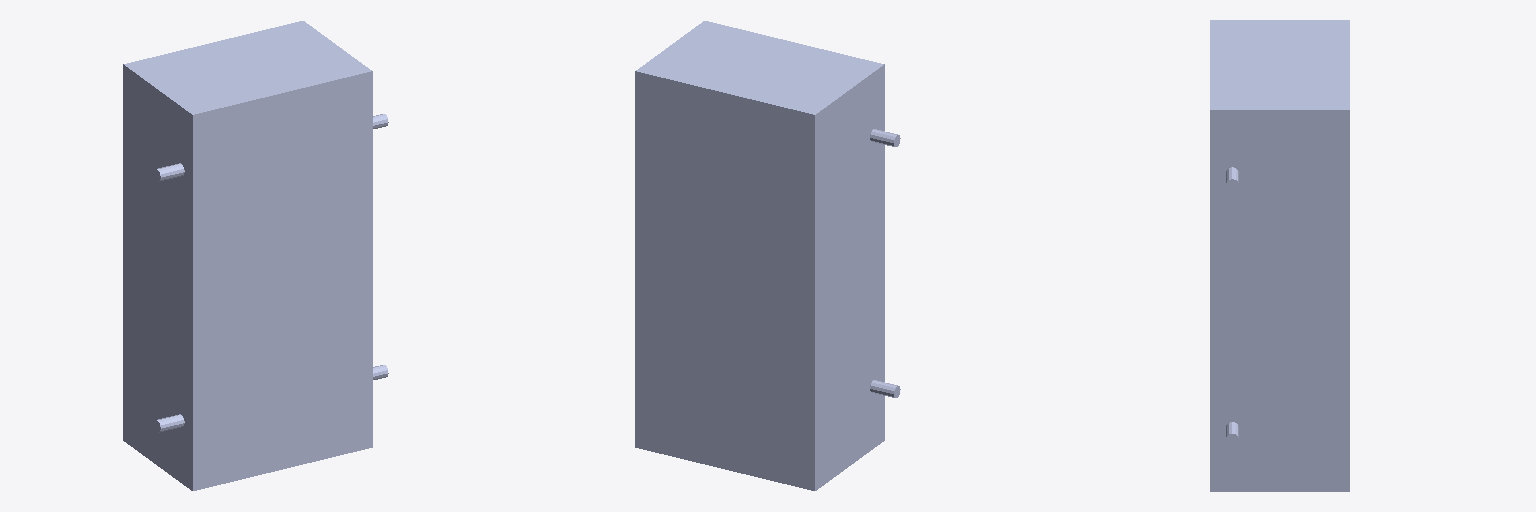
URDF robot description (4_WHEELER):
<?xml version="1.0" encoding="utf-8"?>
<!-- This URDF was automatically created by SolidWorks to URDF Exporter! Originally created by [author] ([email redacted]) 
     Commit Version: 1.6.0-1-g15f4949  Build Version: 1.6.7594.29634
     For more information, please see http://wiki.ros.org/sw_urdf_exporter -->
<robot
  name="4_WHEELER">
  <link
    name="base_link">
    <inertial>
      <origin
        xyz="-0.0375 0.0168979568692043 -0.05"
        rpy="0 0 0" />
      <mass
        value="0.563205630345987" />
      <inertia
        ixx="0.00117384279611469"
        ixy="1.53653099876935E-20"
        ixz="-9.99854565423472E-20"
        iyy="0.00132140486649909"
        iyz="-3.76039599495508E-20"
        izz="0.000382342529746245" />
    </inertial>
    <visual>
      <origin
        xyz="0 0 0"
        rpy="0 0 0" />
      <geometry>
        <mesh
          filename="package://4_WHEELER/meshes/base_link.STL" />
      </geometry>
      <material
        name="">
        <color
          rgba="0.792156862745098 0.819607843137255 0.933333333333333 1" />
      </material>
    </visual>
    <collision>
      <origin
        xyz="0 0 0"
        rpy="0 0 0" />
      <geometry>
        <mesh
          filename="package://4_WHEELER/meshes/base_link.STL" />
      </geometry>
    </collision>
  </link>
  <link
    name="front_right_link">
    <inertial>
      <origin
        xyz="0.0150232018561485 0 0"
        rpy="0 0 0" />
      <mass
        value="0.084626652106075" />
      <inertia
        ixx="3.81697371488008E-05"
        ixy="1.15941736867104E-37"
        ixz="-1.38810202635159E-24"
        iyy="2.54252769409231E-05"
        iyz="1.06543524839393E-40"
        izz="2.54252769409231E-05" />
    </inertial>
    <visual>
      <origin
        xyz="0 0 0"
        rpy="0 0 0" />
      <geometry>
        <mesh
          filename="package://4_WHEELER/meshes/front_right_link.STL" />
      </geometry>
      <material
        name="">
        <color
          rgba="0.792156862745098 0.819607843137255 0.933333333333333 1" />
      </material>
    </visual>
    <collision>
      <origin
        xyz="0 0 0"
        rpy="0 0 0" />
      <geometry>
        <mesh
          filename="package://4_WHEELER/meshes/front_right_link.STL" />
      </geometry>
    </collision>
  </link>
  <joint
    name="front_right_joint"
    type="continuous">
    <origin
      xyz="0 0 -0.1"
      rpy="0 0 0" />
    <parent
      link="base_link" />
    <child
      link="front_right_link" />
    <axis
      xyz="1 0 0" />
    <safety_controller
      k_velocity="0" />
  </joint>
  <link
    name="back_right_link">
    <inertial>
      <origin
        xyz="0.0150232018561485 1.73472347597681E-18 6.93889390390723E-18"
        rpy="0 0 0" />
      <mass
        value="0.084626652106075" />
      <inertia
        ixx="3.81697371488008E-05"
        ixy="-7.40219872782327E-38"
        ixz="7.0944970673424E-24"
        iyy="2.54252769409231E-05"
        iyz="2.64481672201997E-40"
        izz="2.54252769409231E-05" />
    </inertial>
    <visual>
      <origin
        xyz="0 0 0"
        rpy="0 0 0" />
      <geometry>
        <mesh
          filename="package://4_WHEELER/meshes/back_right_link.STL" />
      </geometry>
      <material
        name="">
        <color
          rgba="0.792156862745098 0.819607843137255 0.933333333333333 1" />
      </material>
    </visual>
    <collision>
      <origin
        xyz="0 0 0"
        rpy="0 0 0" />
      <geometry>
        <mesh
          filename="package://4_WHEELER/meshes/back_right_link.STL" />
      </geometry>
    </collision>
  </link>
  <joint
    name="back_right_joint"
    type="continuous">
    <origin
      xyz="0 0 0"
      rpy="0 0 0" />
    <parent
      link="base_link" />
    <child
      link="back_right_link" />
    <axis
      xyz="1 0 0" />
    <safety_controller
      k_velocity="0" />
  </joint>
  <link
    name="front_left_link">
    <inertial>
      <origin
        xyz="0.0150232018561485 0 0"
        rpy="0 0 0" />
      <mass
        value="0.084626652106075" />
      <inertia
        ixx="3.81697371488008E-05"
        ixy="-8.60957776481168E-38"
        ixz="8.66046310517944E-24"
        iyy="2.5425276940923E-05"
        iyz="2.95137923266854E-38"
        izz="2.5425276940923E-05" />
    </inertial>
    <visual>
      <origin
        xyz="0 0 0"
        rpy="0 0 0" />
      <geometry>
        <mesh
          filename="package://4_WHEELER/meshes/front_left_link.STL" />
      </geometry>
      <material
        name="">
        <color
          rgba="0.792156862745098 0.819607843137255 0.933333333333333 1" />
      </material>
    </visual>
    <collision>
      <origin
        xyz="0 0 0"
        rpy="0 0 0" />
      <geometry>
        <mesh
          filename="package://4_WHEELER/meshes/front_left_link.STL" />
      </geometry>
    </collision>
  </link>
  <joint
    name="front_left_joint"
    type="continuous">
    <origin
      xyz="-0.075 0 -0.1"
      rpy="3.1416 0 3.1416" />
    <parent
      link="base_link" />
    <child
      link="front_left_link" />
    <axis
      xyz="-1 0 0" />
    <safety_controller
      k_velocity="0" />
  </joint>
  <link
    name="back_left_link">
    <inertial>
      <origin
        xyz="0.0150232018561485 0 0"
        rpy="0 0 0" />
      <mass
        value="0.084626652106075" />
      <inertia
        ixx="3.81697371488008E-05"
        ixy="-8.39433832069138E-38"
        ixz="7.84265519175547E-24"
        iyy="2.5425276940923E-05"
        iyz="-8.35361953230723E-38"
        izz="2.5425276940923E-05" />
    </inertial>
    <visual>
      <origin
        xyz="0 0 0"
        rpy="0 0 0" />
      <geometry>
        <mesh
          filename="package://4_WHEELER/meshes/back_left_link.STL" />
      </geometry>
      <material
        name="">
        <color
          rgba="0.792156862745098 0.819607843137255 0.933333333333333 1" />
      </material>
    </visual>
    <collision>
      <origin
        xyz="0 0 0"
        rpy="0 0 0" />
      <geometry>
        <mesh
          filename="package://4_WHEELER/meshes/back_left_link.STL" />
      </geometry>
    </collision>
  </link>
  <joint
    name="back_left_joint"
    type="continuous">
    <origin
      xyz="-0.075 0 0"
      rpy="3.14159265358979 0 3.14159265358979" />
    <parent
      link="base_link" />
    <child
      link="back_left_link" />
    <axis
      xyz="-1 0 0" />
    <safety_controller
      k_velocity="0" />
  </joint>

 <gazebo>
    <plugin name="4_WHELLER_controller" filename="libgazebo_ros_diff_drive.so">
      <commandTopic>cmd_vel</commandTopic>
      <odometryTopic>odom</odometryTopic>
      <odometryFrame>odom</odometryFrame>
      <odometrySource>world</odometrySource>
      <publishOdomTF>true</publishOdomTF>
      <robotBaseFrame>base_link</robotBaseFrame>
      <publishWheelTF>false</publishWheelTF>
      <publishTf>true</publishTf>
      <publishWheelJointState>true</publishWheelJointState>
      <legacyMode>false</legacyMode>
      <updateRate>30</updateRate>
      <leftJoint>front_left_joint</leftJoint>
      <rightJoint>front_right_joint</rightJoint>
      <wheelSeparation>0.287</wheelSeparation>
      <wheelDiameter>0.066</wheelDiameter>
      <wheelAcceleration>1</wheelAcceleration>
      <wheelTorque>10</wheelTorque>
      <rosDebugLevel>na</rosDebugLevel>
    </plugin>
  </gazebo>


</robot>

--- Facts derived from the render (not from the file) ---
Views: 3 orthographic renders of the robot side by side, from view 1: azimuth 30°, elevation 25°; view 2: azimuth 150°, elevation 25°; view 3: azimuth 270°, elevation 25°.
Model 4_WHEELER with 5 links and 4 joints (4 continuous), rooted at base_link, posed all joints at 0.
Links seen in each view (by area): view 1: base_link; view 2: base_link; view 3: base_link.
Boxes of the visible links, x1,y1,x2,y2 form: base_link: [123, 21, 388, 490]; base_link: [635, 21, 900, 490]; base_link: [1210, 20, 1349, 491].
Bounding box of the posed robot: 0.095 × 0.05 × 0.15 m (x, y, z).
Meshes: 5 distinct files referenced, 1 mesh visuals loaded (1 binary STL); not drawn: 4 (reference not matched to a file when rendering).